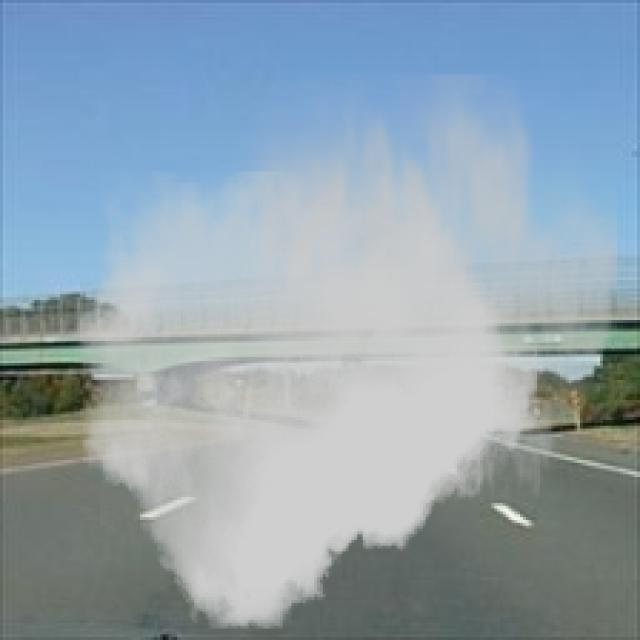smoke: (74, 74, 617, 629)
